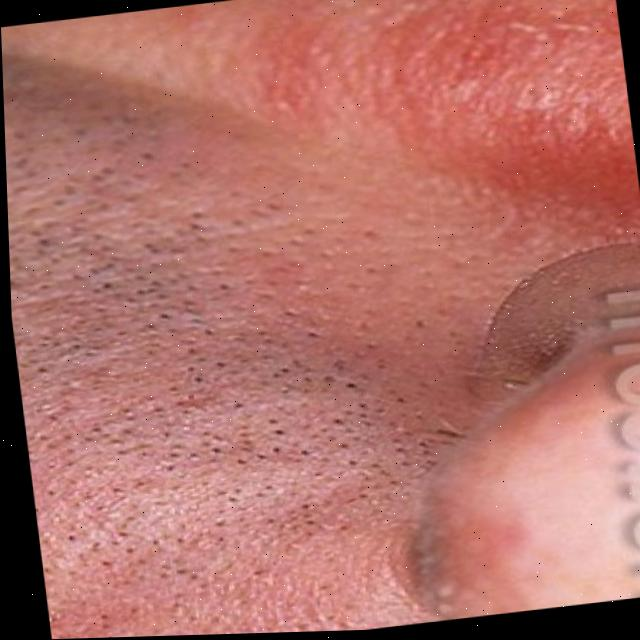Rosacea: (319, 0, 627, 181)
